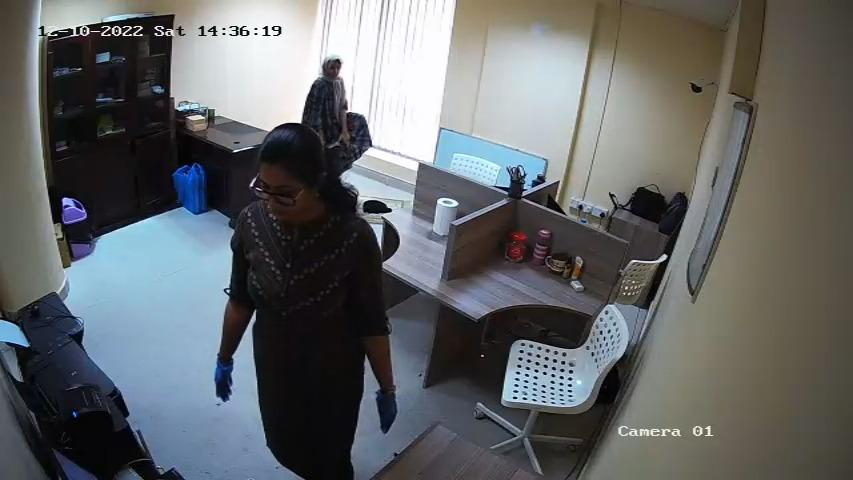gloves: (369, 381, 402, 432), (211, 352, 239, 405)
